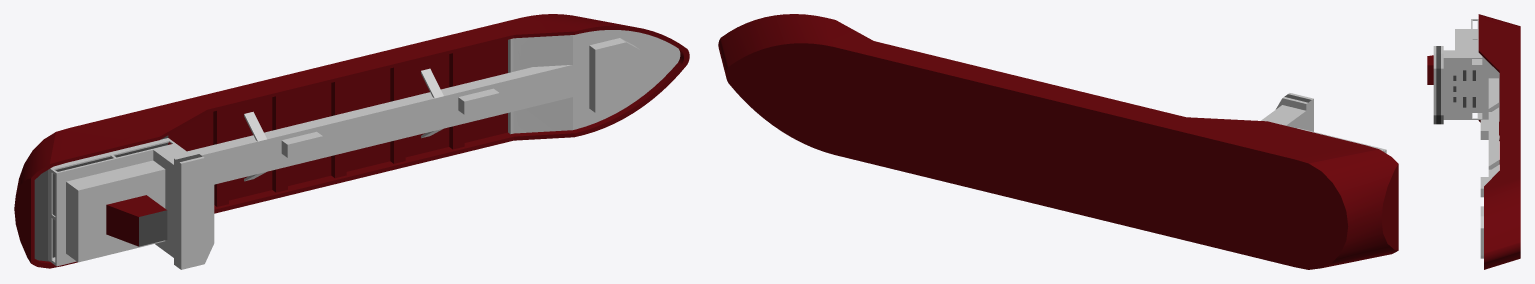
The model's file is chemical_tanker.dae.
3 views of the same model, side by side, from view 1: azimuth 30°, elevation 25°; view 2: azimuth 150°, elevation 25°; view 3: azimuth 270°, elevation 25° (orthographic). The views are drawn at different scales.
Visible parts, largest first — view 1: coords_ME_ID3_MA_material_31, coords_ME_ID75_MA_material_32, coords_ME_ID69_MA_material_32, coords_ME_ID45_MA_material_32, coords_ME_ID87_MA_material_31, coords_ME_ID57_MA_material, coords_ME_ID123_MA_material, coords_ME_ID51_MA_material_32, coords_ME_ID11_MA_material_32, coords_ME_ID135_MA_material; view 2: coords_ME_ID3_MA_material_31, coords_ME_ID69_MA_material_32; view 3: coords_ME_ID3_MA_material_31, coords_ME_ID69_MA_material_32, coords_ME_ID75_MA_material_32, coords_ME_ID153_MA_material, coords_ME_ID129_MA_material_32, coords_ME_ID45_MA_material_32, coords_ME_ID87_MA_material_31, coords_ME_ID11_MA_material_32, coords_ME_ID51_MA_material_32.
Boxes of the visible parts, <box> form: coords_ME_ID3_MA_material_31: <box>14,14,689,268</box>; coords_ME_ID75_MA_material_32: <box>187,30,680,184</box>; coords_ME_ID69_MA_material_32: <box>48,138,214,269</box>; coords_ME_ID45_MA_material_32: <box>589,38,640,112</box>; coords_ME_ID87_MA_material_31: <box>106,195,166,246</box>; coords_ME_ID57_MA_material: <box>34,135,168,261</box>; coords_ME_ID123_MA_material: <box>139,210,167,246</box>; coords_ME_ID51_MA_material_32: <box>458,88,499,114</box>; coords_ME_ID11_MA_material_32: <box>281,131,322,157</box>; coords_ME_ID135_MA_material: <box>52,142,168,257</box>; coords_ME_ID3_MA_material_31: <box>718,14,1398,269</box>; coords_ME_ID69_MA_material_32: <box>1261,93,1386,153</box>; coords_ME_ID3_MA_material_31: <box>1478,14,1520,269</box>; coords_ME_ID69_MA_material_32: <box>1433,19,1499,124</box>; coords_ME_ID75_MA_material_32: <box>1488,78,1499,181</box>; coords_ME_ID153_MA_material: <box>1436,46,1440,124</box>; coords_ME_ID129_MA_material_32: <box>1472,20,1482,118</box>; coords_ME_ID45_MA_material_32: <box>1480,206,1483,258</box>; coords_ME_ID87_MA_material_31: <box>1427,55,1433,84</box>; coords_ME_ID11_MA_material_32: <box>1480,119,1488,139</box>; coords_ME_ID51_MA_material_32: <box>1480,177,1488,197</box>.
Size of the model in its own units: 992 by 152 by 182.
